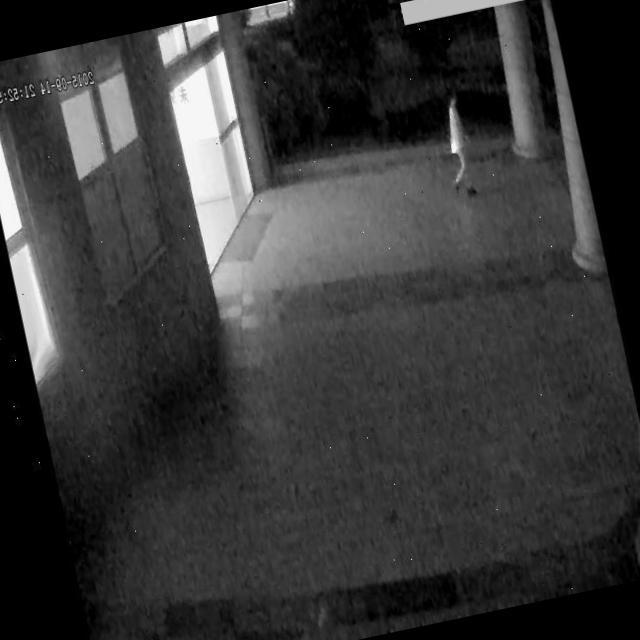person: (422, 70, 493, 214)
